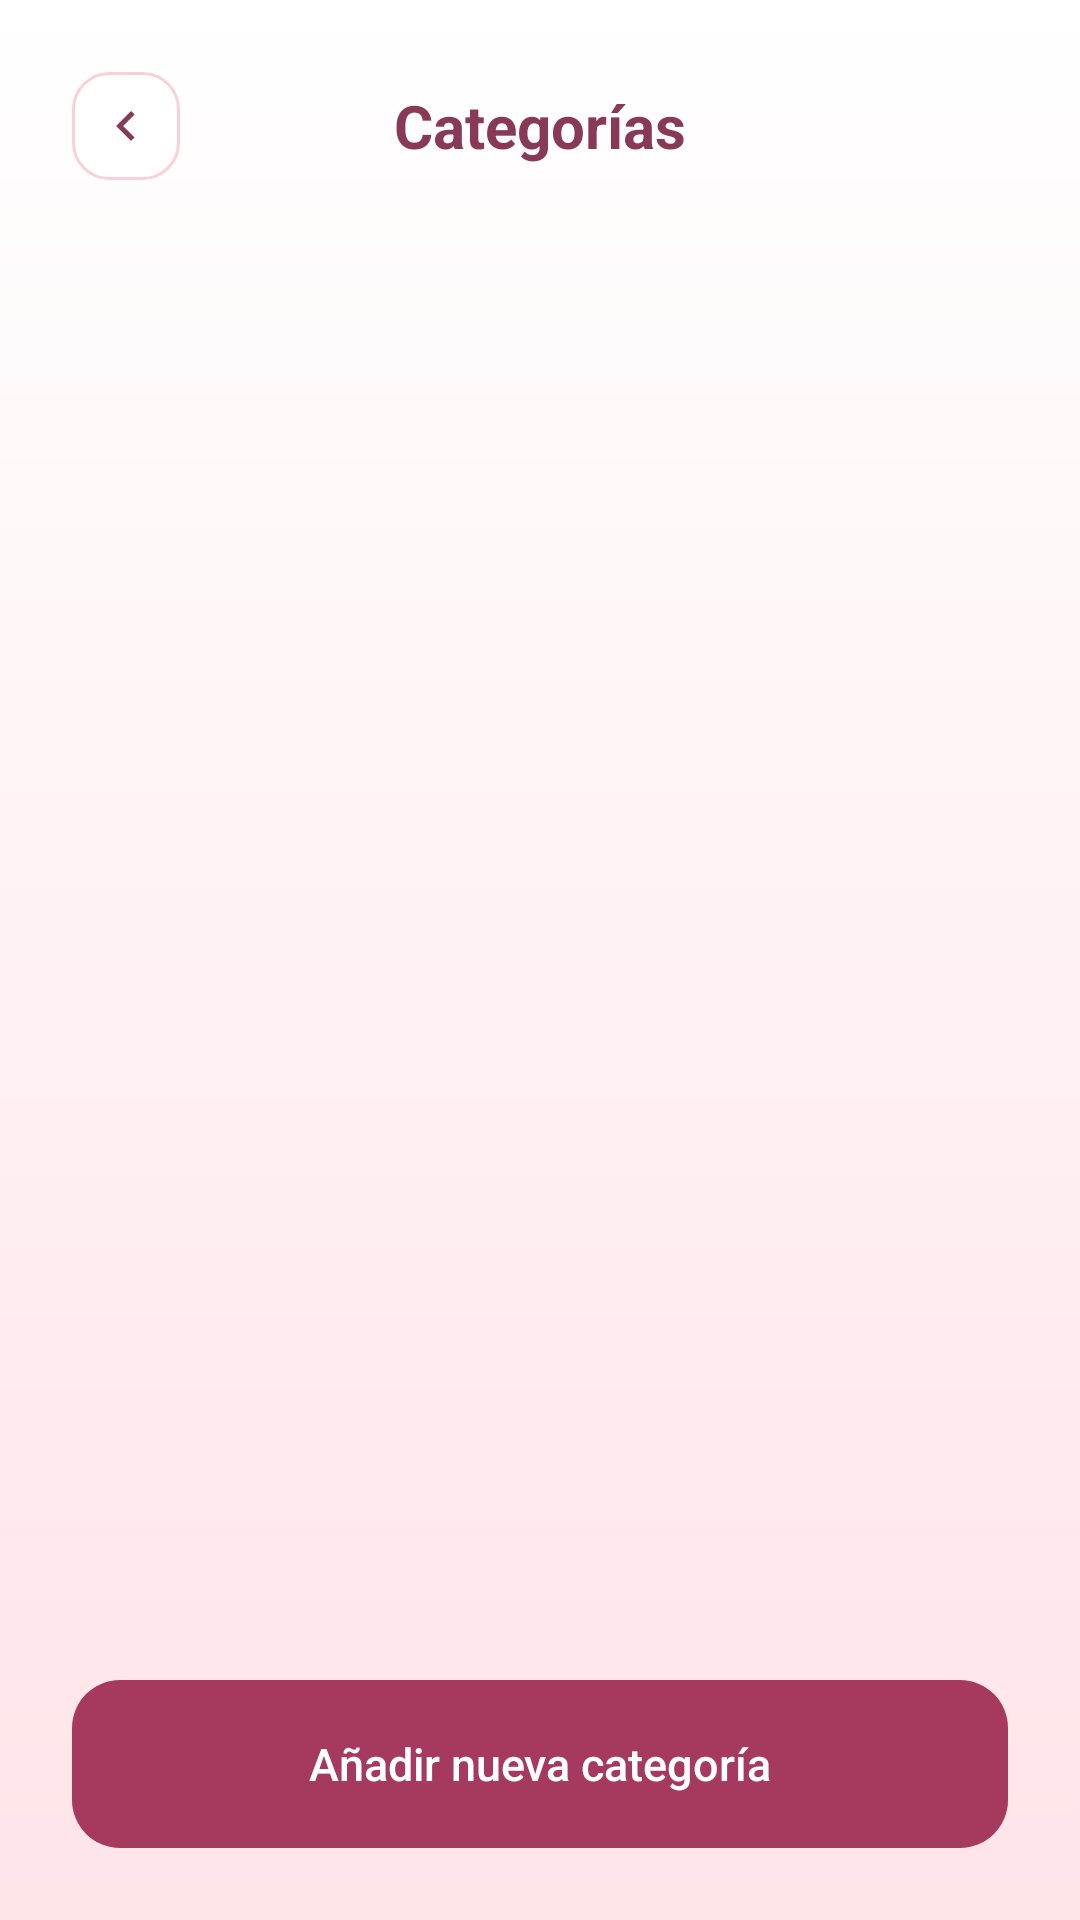

Screen size 1080px x 1920px. Icon name, then its box in pixels as (x1, y1, x2, y2):
Volver: (72, 72, 180, 180)
